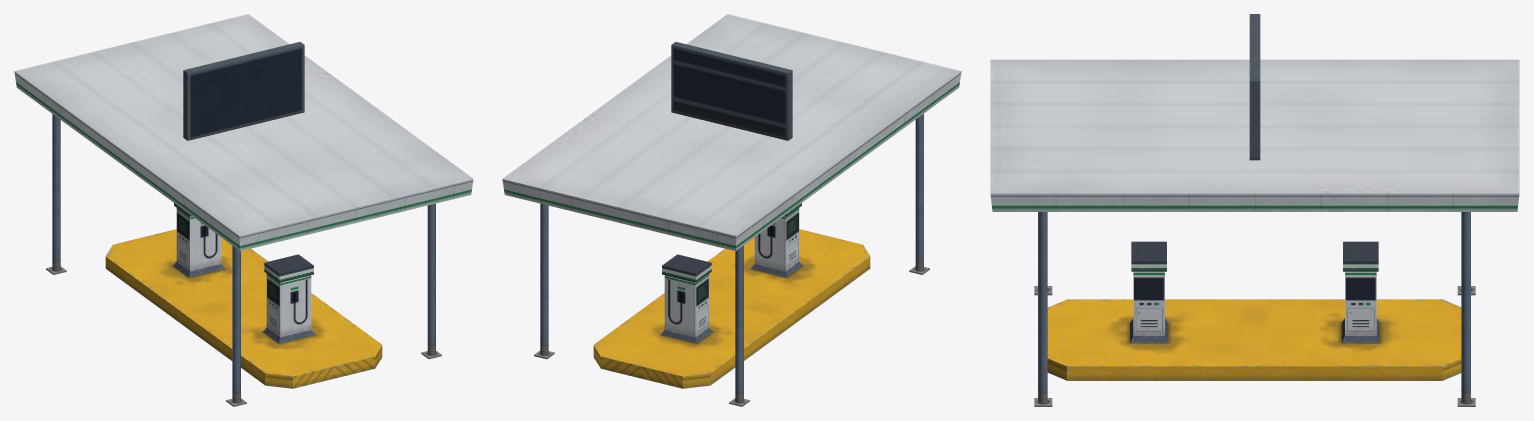
Rendered from yard-fuel-island-body-authored-v2.glb.
3 views of the same model, side by side, from view 1: azimuth 30°, elevation 25°; view 2: azimuth 150°, elevation 25°; view 3: azimuth 270°, elevation 25° (orthographic). The views are drawn at different scales.
Visible parts, largest first — view 1: Yard-fuel-island-bodyBody; view 2: Yard-fuel-island-bodyBody; view 3: Yard-fuel-island-bodyBody.
Boxes of the visible parts, x1=… form: Yard-fuel-island-bodyBody: x1=14, y1=14, x2=473, y2=406; Yard-fuel-island-bodyBody: x1=502, y1=14, x2=961, y2=406; Yard-fuel-island-bodyBody: x1=990, y1=14, x2=1519, y2=406.
Bounding box in the file's own units: 6 × 6.25 × 10.
1 material, 1 textured.
